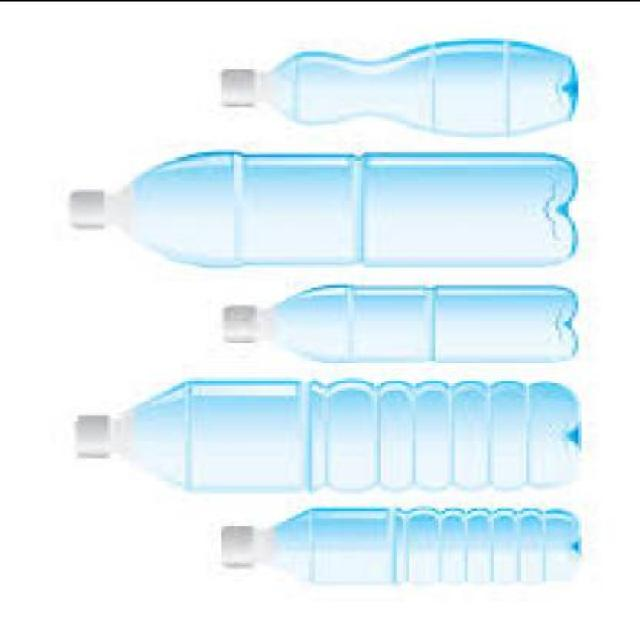PLASTIC: (65, 154, 572, 271), (75, 384, 574, 491), (215, 39, 574, 141), (218, 512, 574, 590), (220, 287, 572, 364), (214, 525, 257, 572), (214, 70, 257, 110), (71, 416, 111, 459), (65, 191, 101, 231), (218, 306, 253, 346)
